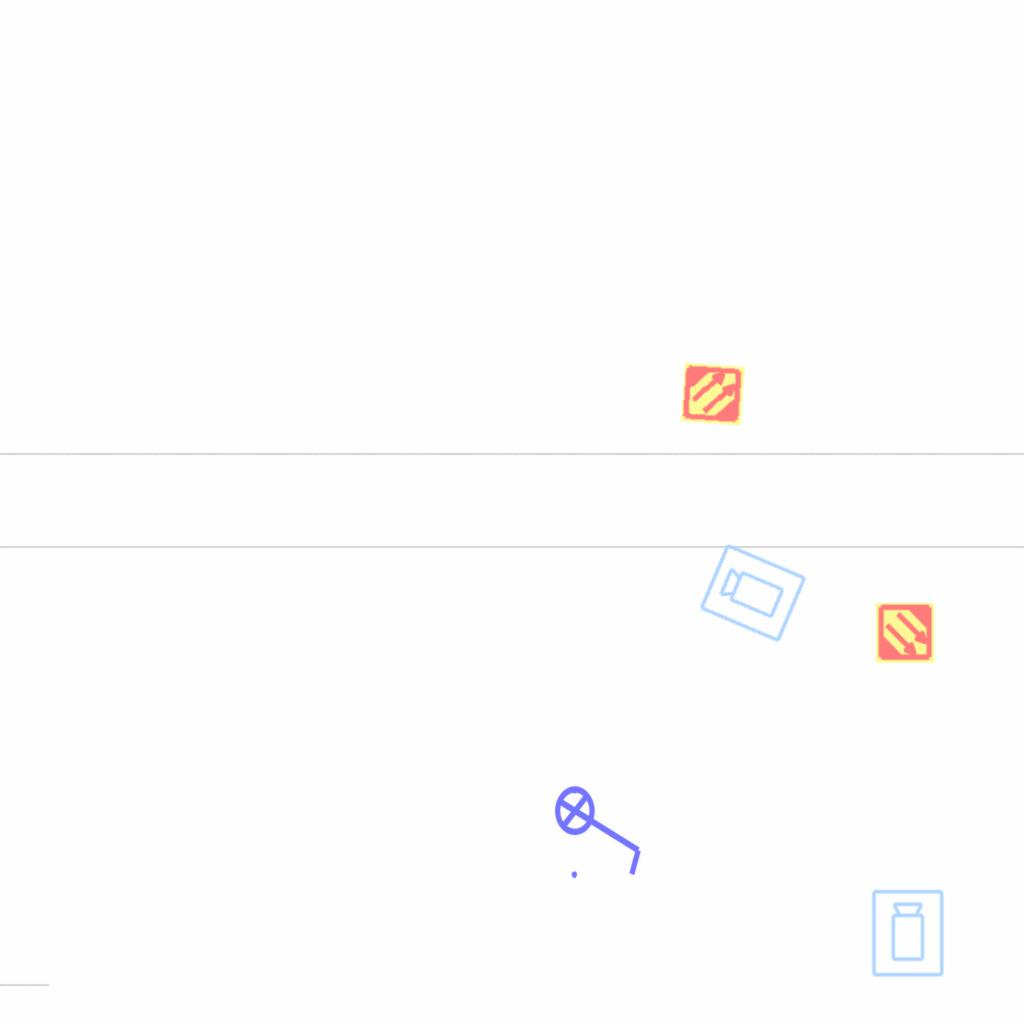ASR_Ansaugrauchmelder: (679, 360, 747, 428), (874, 602, 936, 664)
Ausschalter_beleuchtet: (553, 772, 649, 884)
KFO_Kamera_mit_Festobjektiv: (696, 539, 811, 646), (870, 888, 947, 979)
